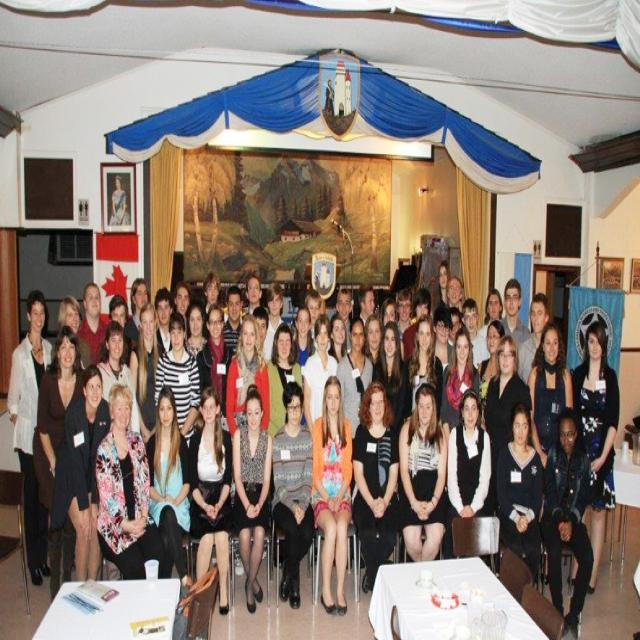body: (4, 285, 58, 589), (31, 321, 87, 604), (49, 362, 116, 584), (568, 320, 620, 597), (94, 381, 166, 580), (348, 376, 405, 602), (308, 371, 358, 620), (140, 384, 197, 602), (266, 378, 319, 612), (545, 402, 596, 639), (396, 380, 450, 588), (192, 377, 236, 620), (335, 314, 375, 571), (231, 382, 274, 615), (496, 404, 545, 585), (446, 388, 492, 573), (526, 320, 574, 470), (134, 298, 168, 490), (154, 312, 199, 455), (483, 334, 532, 454), (229, 310, 272, 440), (95, 318, 140, 434), (195, 303, 236, 418), (371, 319, 411, 431), (404, 314, 445, 423), (266, 321, 303, 441), (302, 314, 338, 436), (442, 326, 481, 431), (287, 302, 318, 428), (516, 290, 552, 387), (75, 279, 112, 369), (50, 294, 90, 371), (401, 286, 438, 366), (475, 318, 507, 406), (101, 292, 134, 369), (126, 276, 152, 368), (498, 278, 532, 346), (460, 297, 490, 370), (261, 280, 285, 366), (303, 286, 331, 354), (237, 272, 264, 342), (105, 170, 136, 230), (376, 296, 404, 362), (201, 269, 227, 339), (364, 312, 389, 384), (153, 286, 177, 360), (431, 304, 455, 375), (221, 283, 243, 357), (477, 286, 505, 342), (395, 288, 419, 352), (334, 284, 354, 356), (251, 304, 274, 366), (186, 297, 208, 361), (601, 256, 640, 292), (326, 310, 349, 366), (173, 280, 192, 342), (430, 259, 450, 317), (320, 67, 339, 123), (443, 274, 465, 318), (356, 282, 376, 330), (622, 408, 640, 461), (630, 553, 640, 640), (448, 306, 464, 342), (313, 259, 325, 300)
